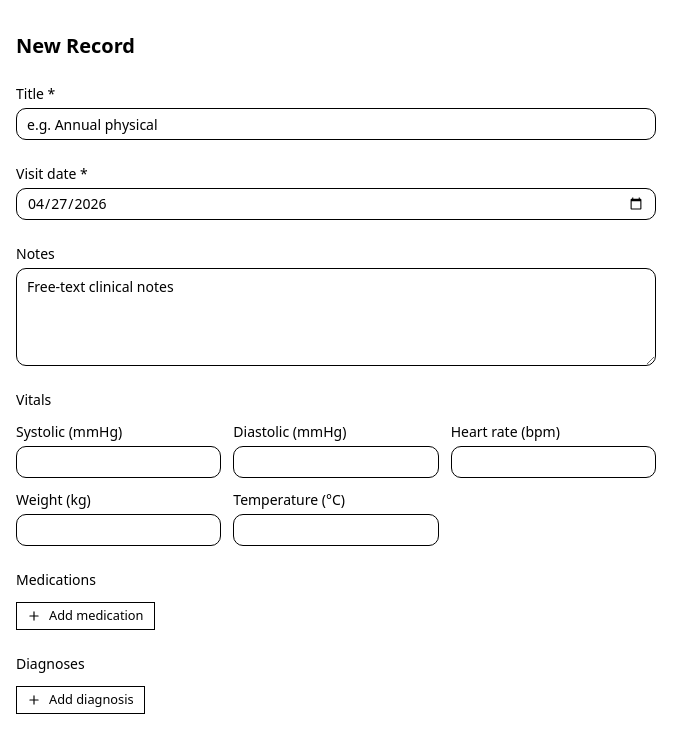
Test: RecordForm — required field validation › shows visit date error when date field is cleared
The image size is (673, 739).
Type "Test" into the field with placeholder "e.g. Annual physical" at (336, 124), box [16,108,656,140]
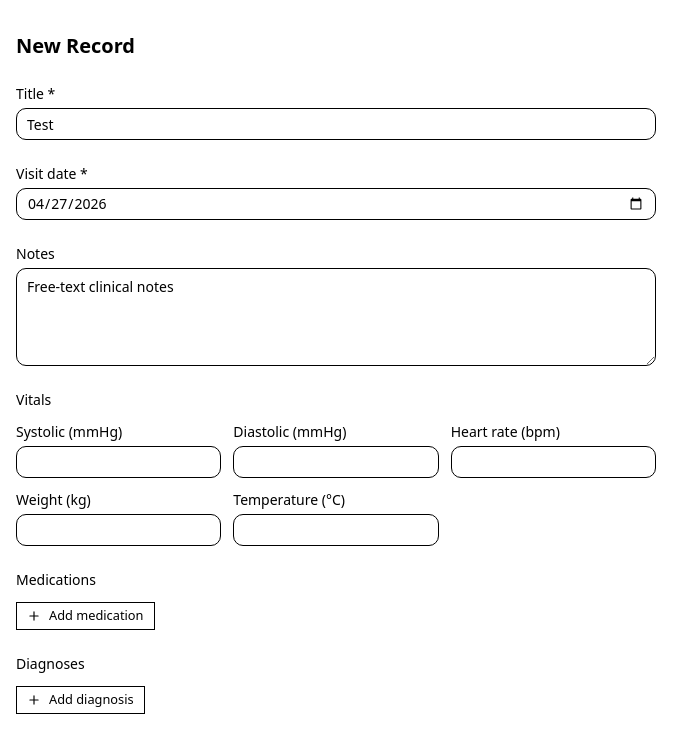
Clear the date field named "visitDate" at (336, 204), box [16,188,656,220]
(page scrolled)
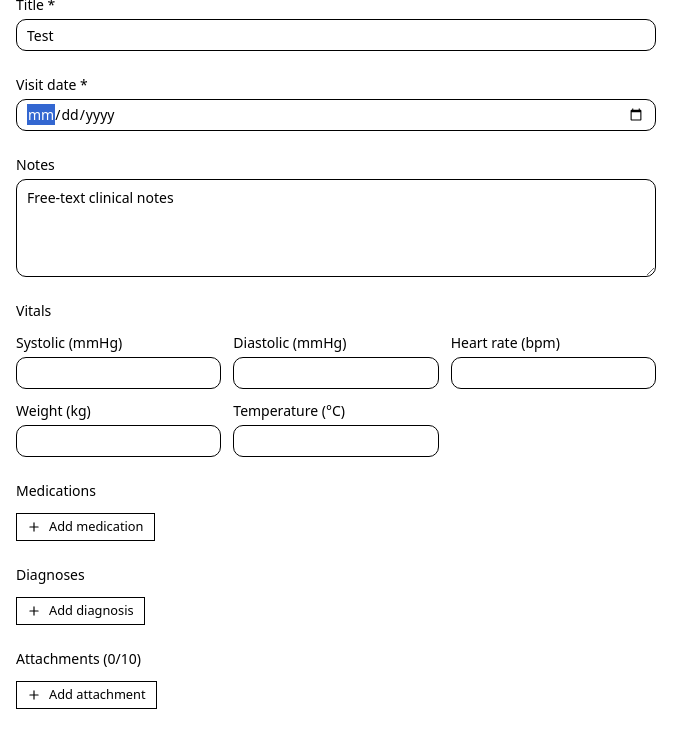
Submit the form
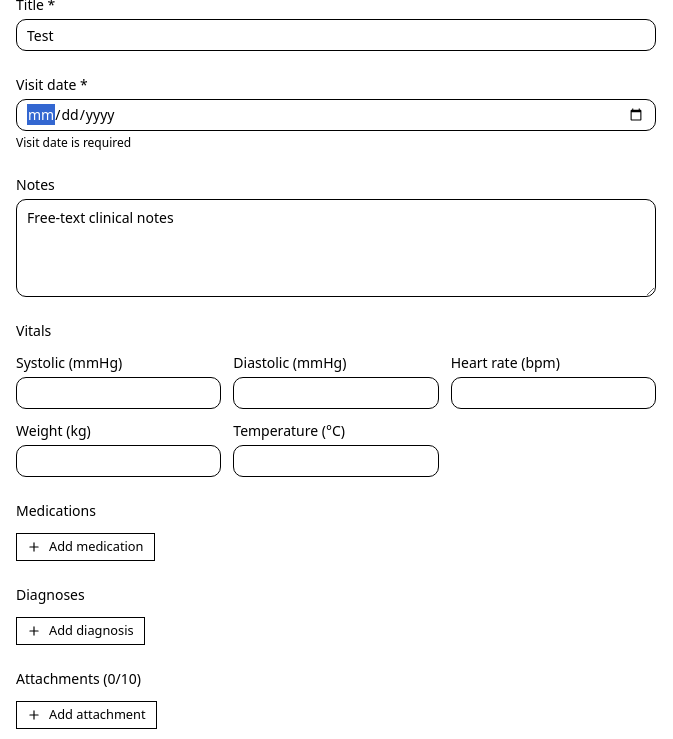
Expected: the text "Visit date is required" is shown, [16,134,131,151]
